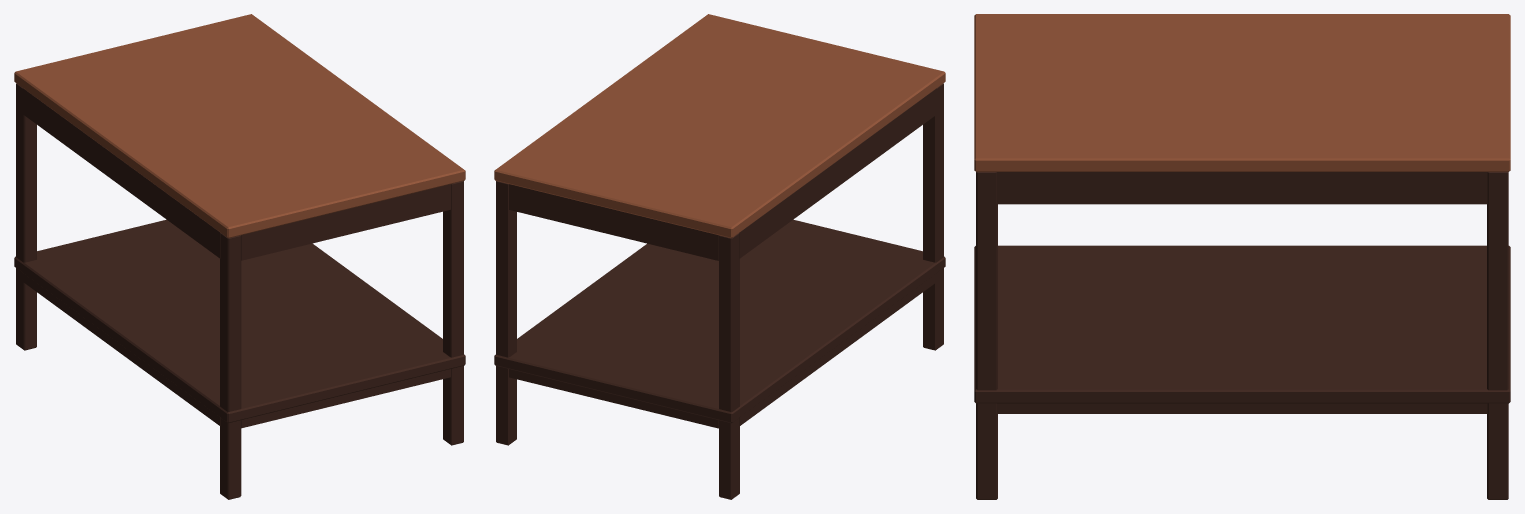
File: SideTable1.fbx
3 renders of one model, left to right at view 1: azimuth 30°, elevation 25°; view 2: azimuth 150°, elevation 25°; view 3: azimuth 270°, elevation 25°, orthographic. The views are drawn at different scales.
Visible parts, largest first — view 1: Cube.010; view 2: Cube.010; view 3: Cube.010.
Boxes of the visible parts, x1=… form: Cube.010: x1=14, y1=14, x2=465, y2=499; Cube.010: x1=494, y1=14, x2=945, y2=499; Cube.010: x1=974, y1=14, x2=1510, y2=499.
Bounding box in the file's own units: 65.28 × 71.48 × 102.
